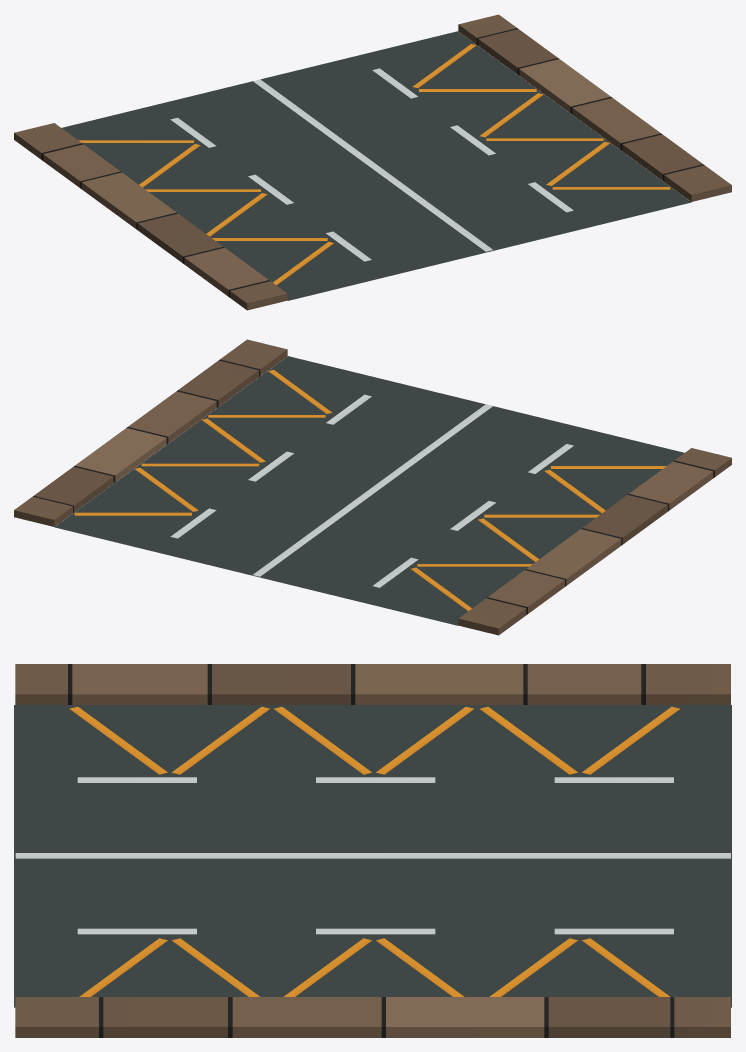
The model's file is Road_1_213.fbx.
The picture shows the model from 3 angles, top to bottom: view 1: azimuth 30°, elevation 25°; view 2: azimuth 150°, elevation 25°; view 3: azimuth 270°, elevation 25°; orthographic projection. The views are drawn at different scales.
Visible parts, largest first — view 1: Road_1_213; view 2: Road_1_213; view 3: Road_1_213.
Boxes of the visible parts, x1,y1,x2,y2 form: Road_1_213: (14,14,731,310); Road_1_213: (14,339,731,635); Road_1_213: (14,664,731,1037).
Size of the model in its own units: 2161 by 30 by 1806.
